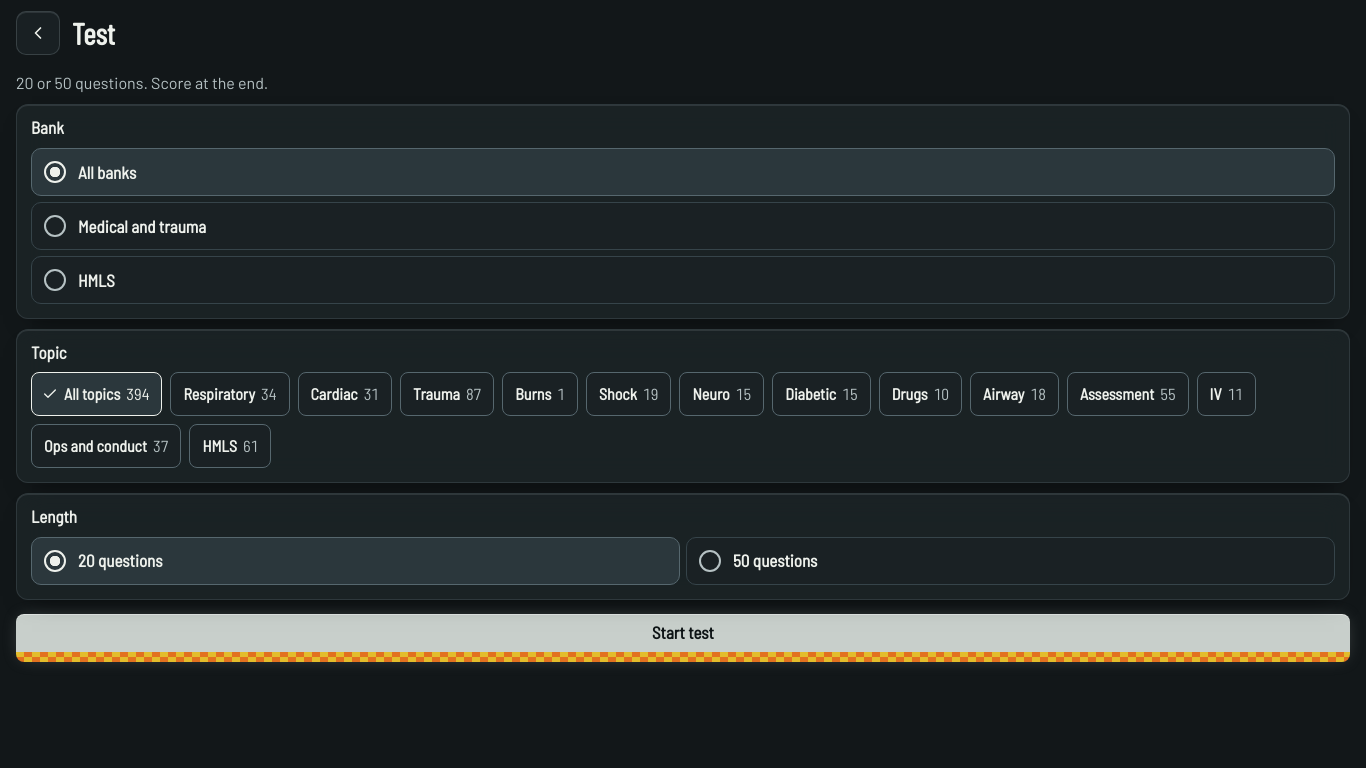
Scenario: Quiz setup › says it once for a single matching question
What coordinates should you click on to do the following:
click the button "Burns 1"
I would click on:
 (540, 394)
Its box is [502,372,578,416].
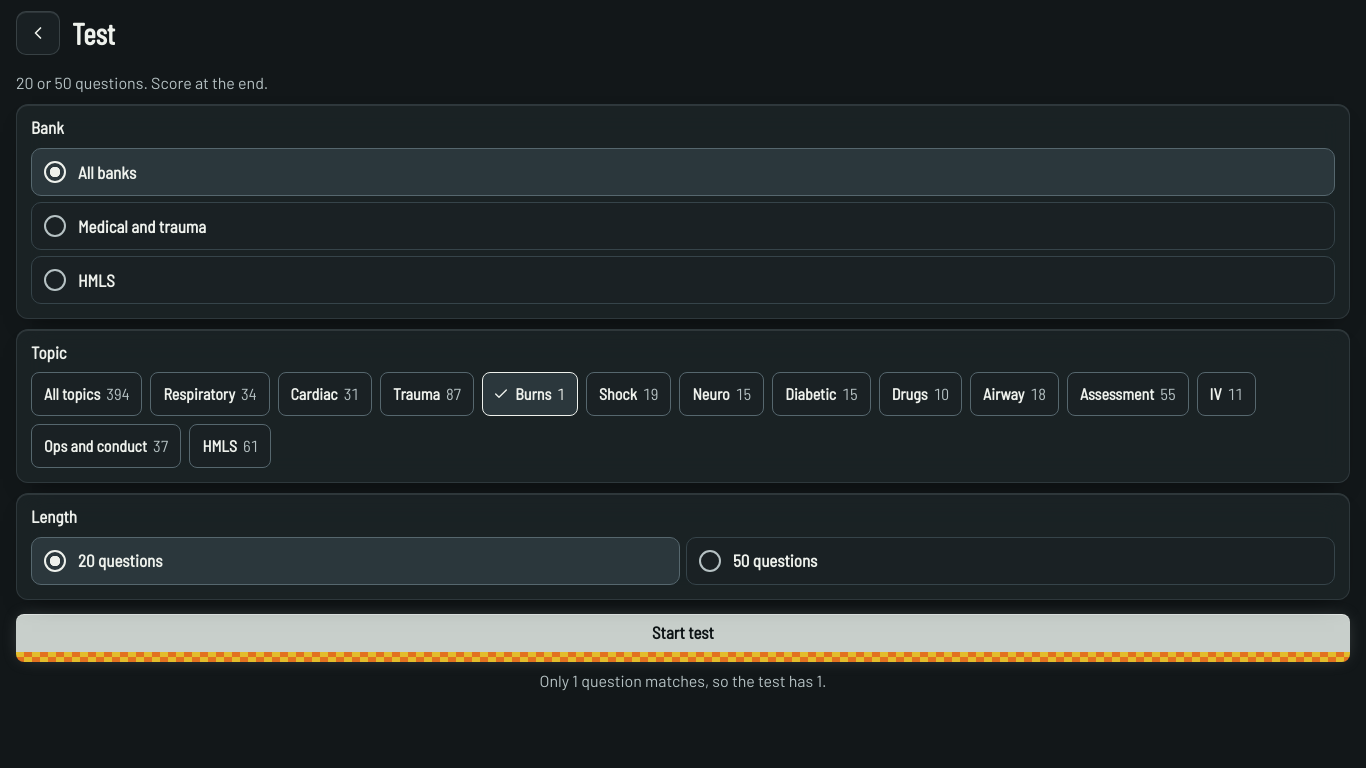
Now the text "Only 1 question matches, so the test has 1." is shown, box [540,671,826,690]
